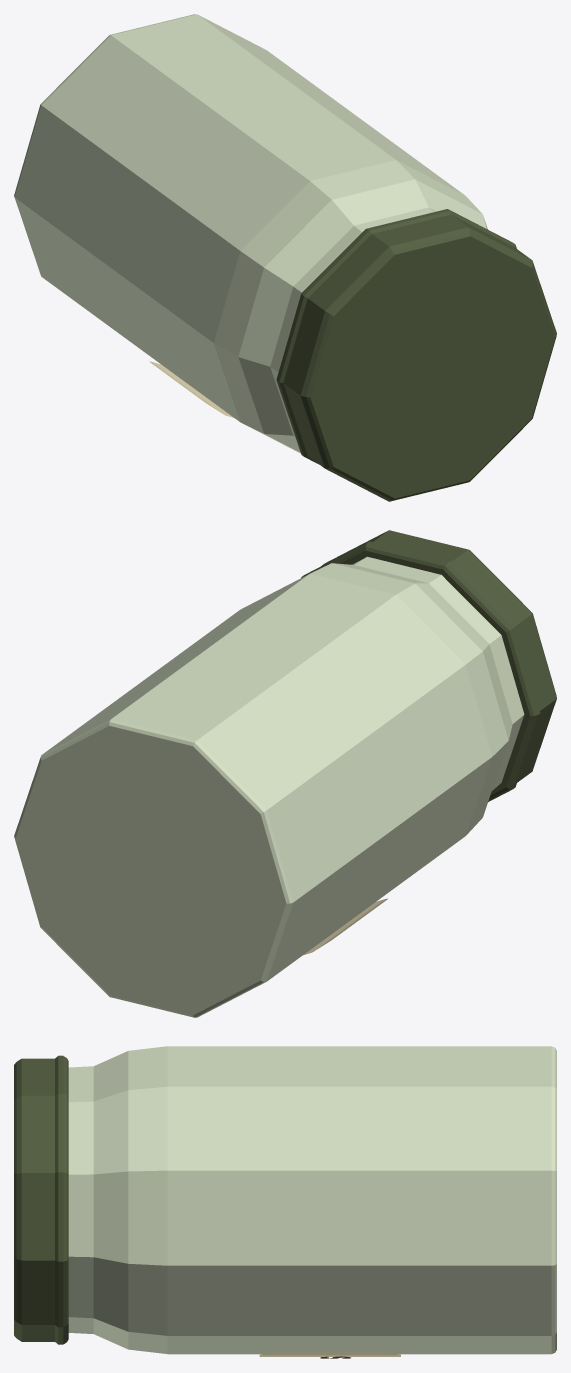
Rendered from pickles_jar.glb.
The picture shows the model from 3 angles, top to bottom: view 1: azimuth 30°, elevation 25°; view 2: azimuth 150°, elevation 25°; view 3: azimuth 270°, elevation 25°; orthographic projection. The views are drawn at different scales.
Visible parts, largest first — view 1: pickles_jar; view 2: pickles_jar; view 3: pickles_jar.
Part boxes in pixels (x1,y1,x2,y2): pickles_jar: (14, 14, 556, 501); pickles_jar: (14, 530, 556, 1017); pickles_jar: (14, 1046, 556, 1358).
Size of the model in its own units: 0.068 by 0.0671 by 0.119.
